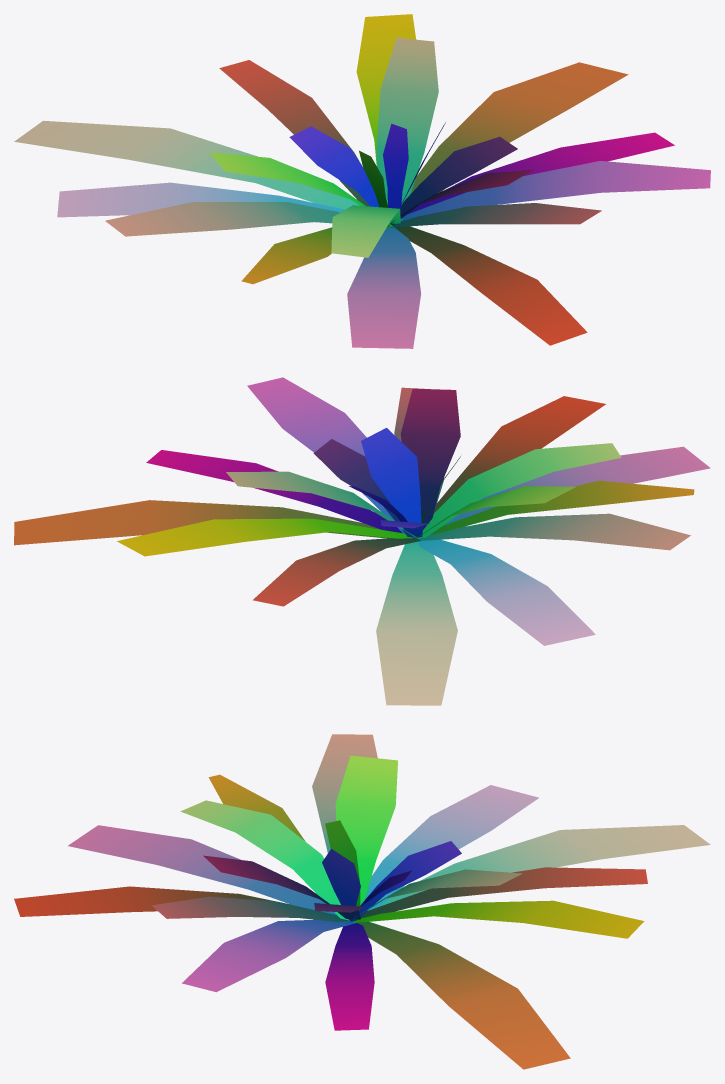
Rendered from Curbside_Weeds_ujzjfexja_Mid_ujzjfexja_VarD_LOD1.fbx.
3 views of the same model, one above another, from view 1: azimuth 30°, elevation 25°; view 2: azimuth 150°, elevation 25°; view 3: azimuth 270°, elevation 25° (orthographic). The views are drawn at different scales.
Parts seen in each view (by area): view 1: _vw9y_VarD_LOD2; view 2: _vw9y_VarD_LOD2; view 3: _vw9y_VarD_LOD2.
Part boxes in pixels (bbox=[...]): _vw9y_VarD_LOD2: bbox=[14, 14, 710, 348]; _vw9y_VarD_LOD2: bbox=[14, 377, 710, 705]; _vw9y_VarD_LOD2: bbox=[14, 734, 710, 1069].
Size of the model in its own units: 11.9 by 1.91 by 12.55.
